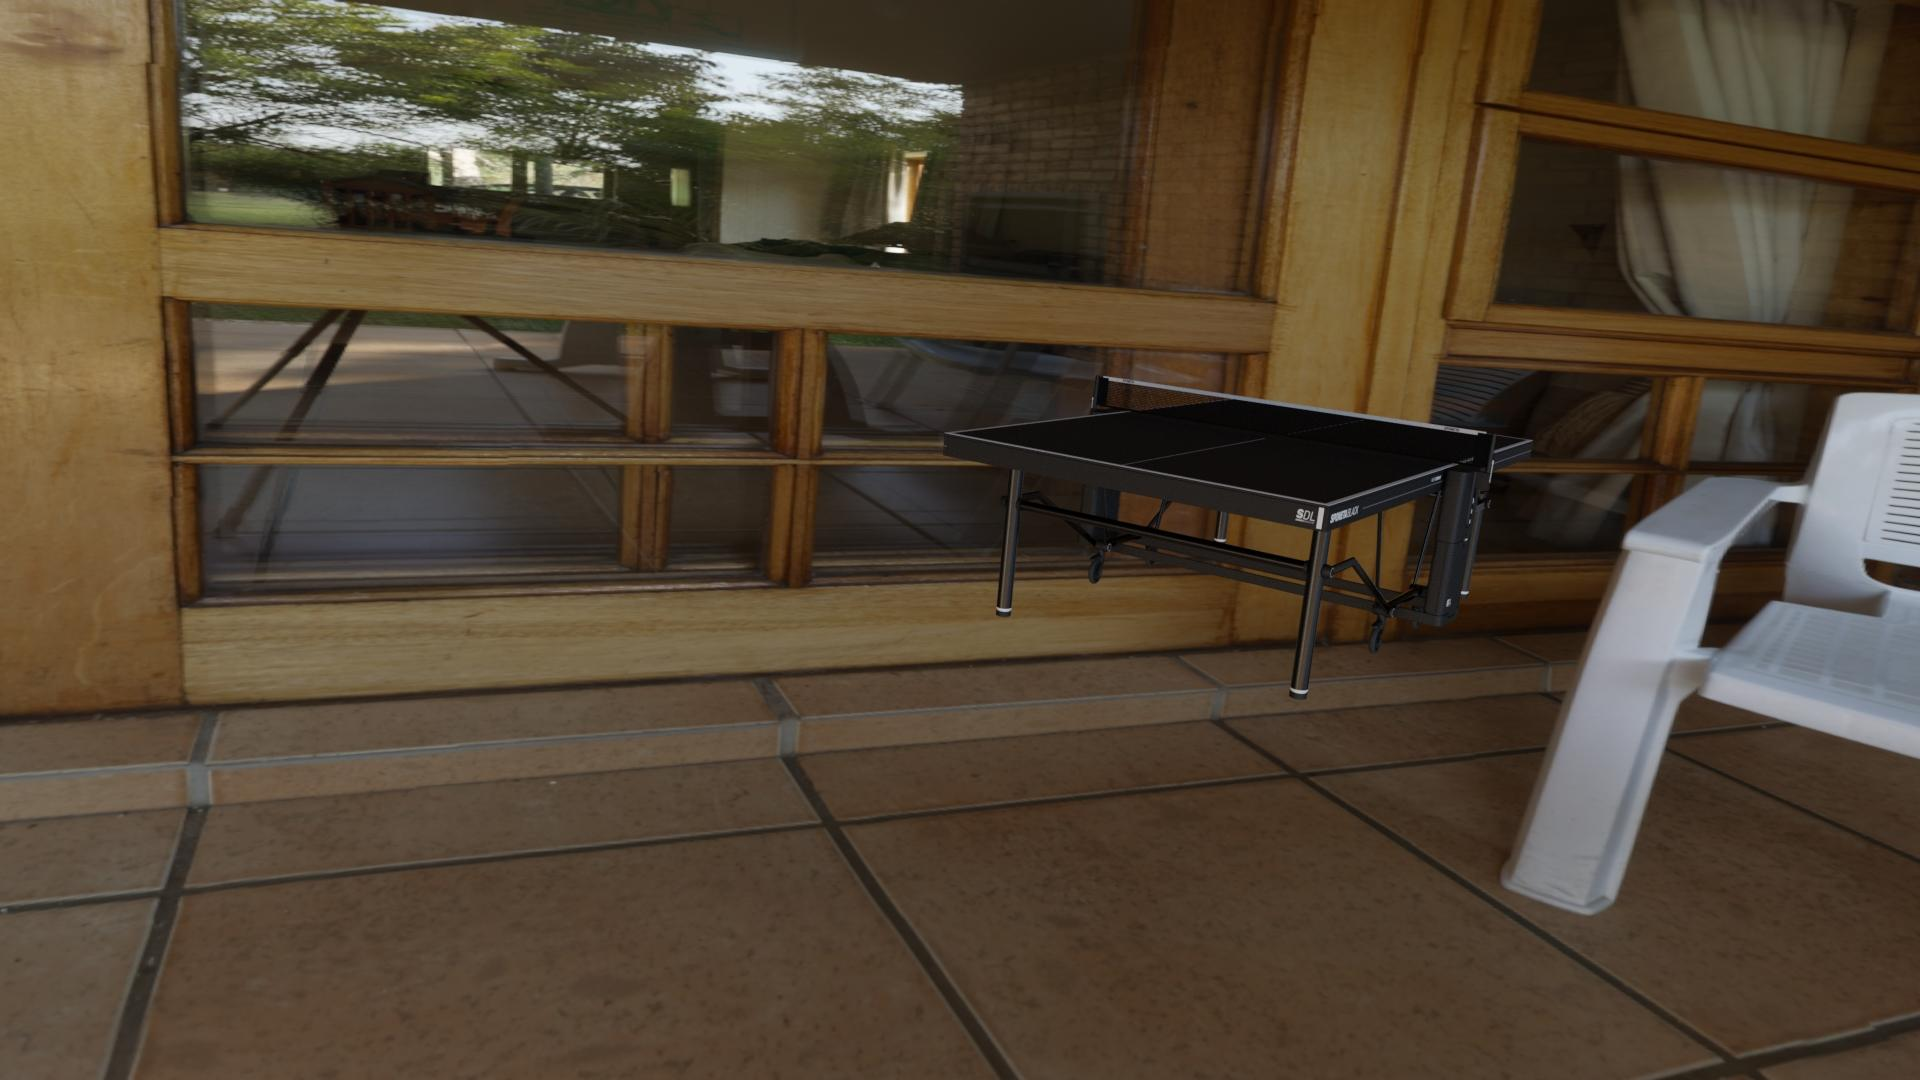table: (952, 398, 1528, 504)
